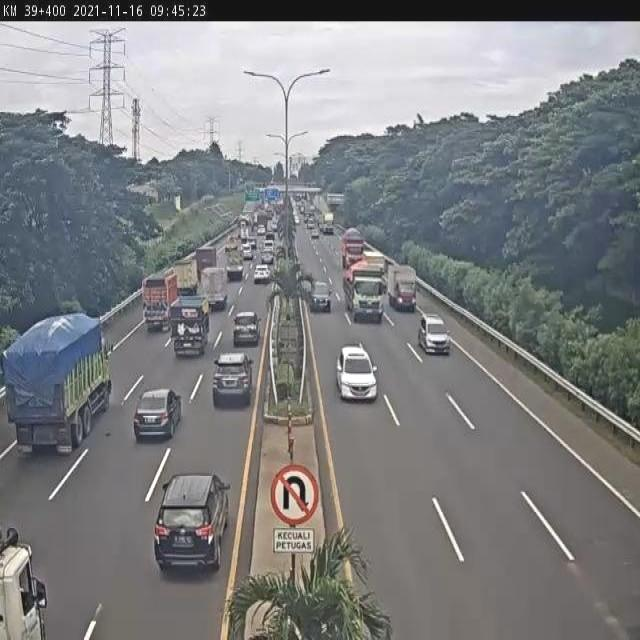Car: (153, 470, 233, 573), (334, 344, 379, 405), (133, 387, 183, 440), (212, 349, 254, 406), (417, 314, 449, 356), (232, 310, 261, 346), (309, 280, 332, 313), (253, 264, 272, 285), (262, 247, 274, 265), (247, 234, 258, 252), (242, 243, 253, 260), (240, 225, 248, 242), (310, 229, 320, 240), (294, 216, 300, 224)
Truck: (2, 313, 112, 455), (0, 522, 50, 640), (342, 259, 389, 326), (169, 294, 211, 356), (141, 270, 179, 332), (387, 262, 418, 312), (200, 265, 229, 311), (173, 259, 201, 302), (340, 226, 366, 272), (195, 246, 218, 282), (360, 247, 386, 276), (226, 250, 245, 280), (236, 212, 255, 238), (322, 211, 336, 235), (223, 233, 238, 253)
